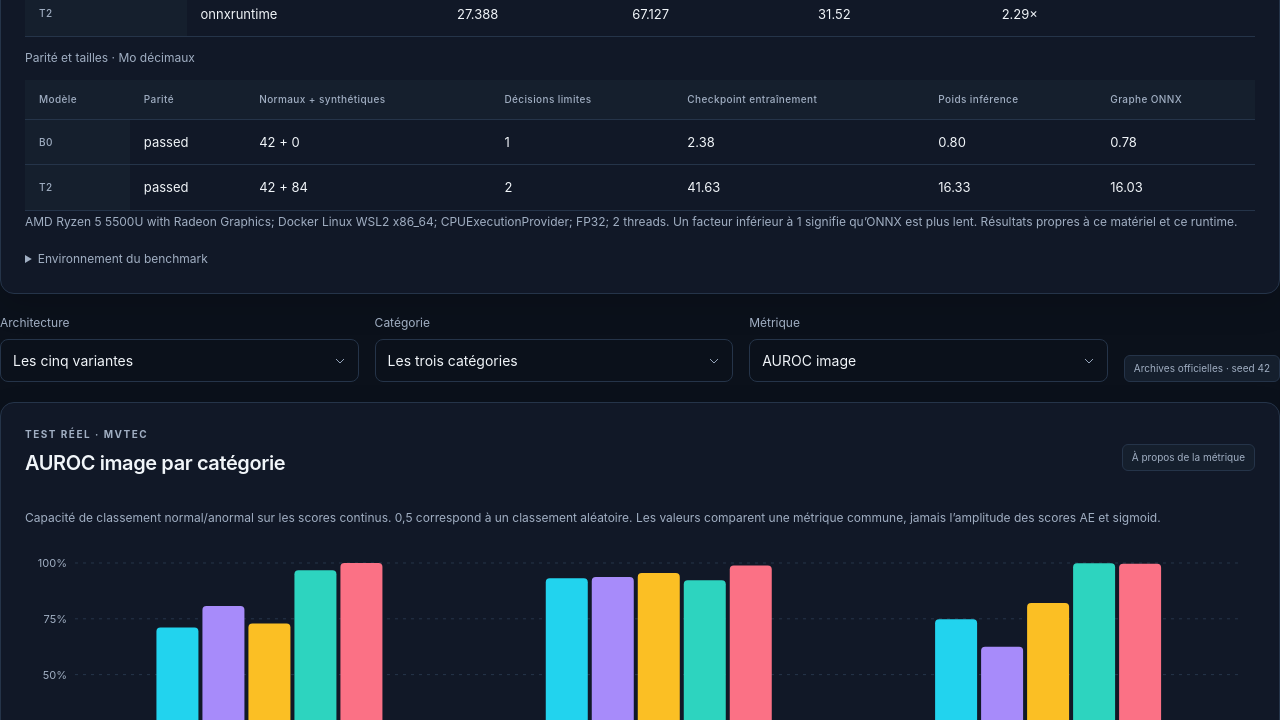
Test: official model analytics › filters architectures and categories without inventing pixel measures
(page scrolled)
Select "EfficientNet T0 / T1 / T2" in the dropdown named "Architecture analytique" at [179, 361], box [0,339,359,382]
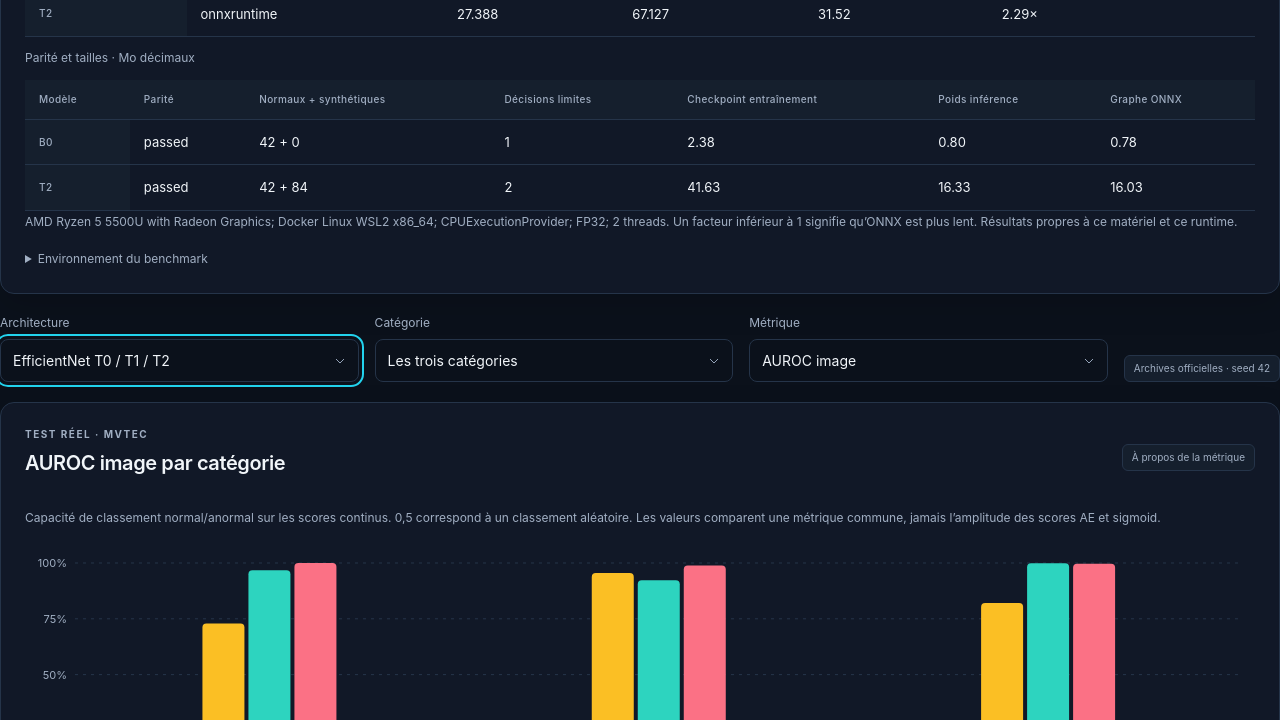
Select "Bouteille" in the dropdown named "Catégorie analytique" at [554, 361], box [375,339,733,382]
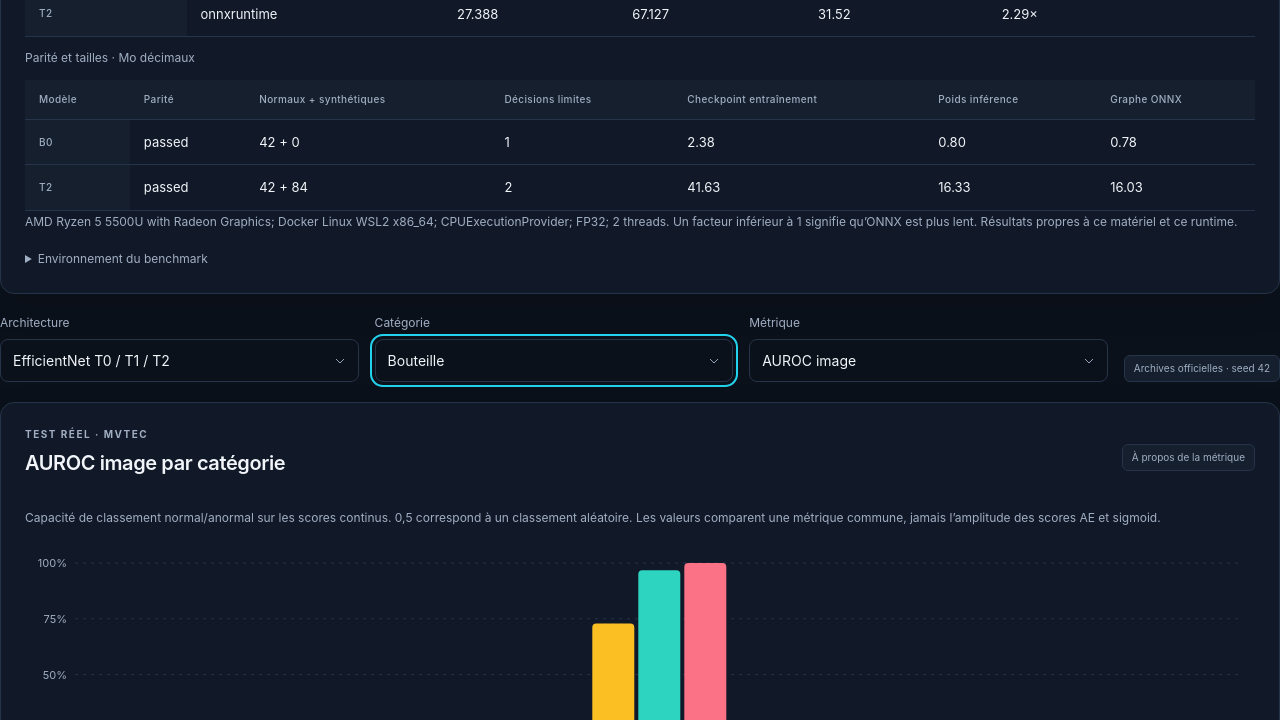
Select "Faux positifs" in the dropdown named "Métrique scientifique" at [928, 361], box [749,339,1108,382]
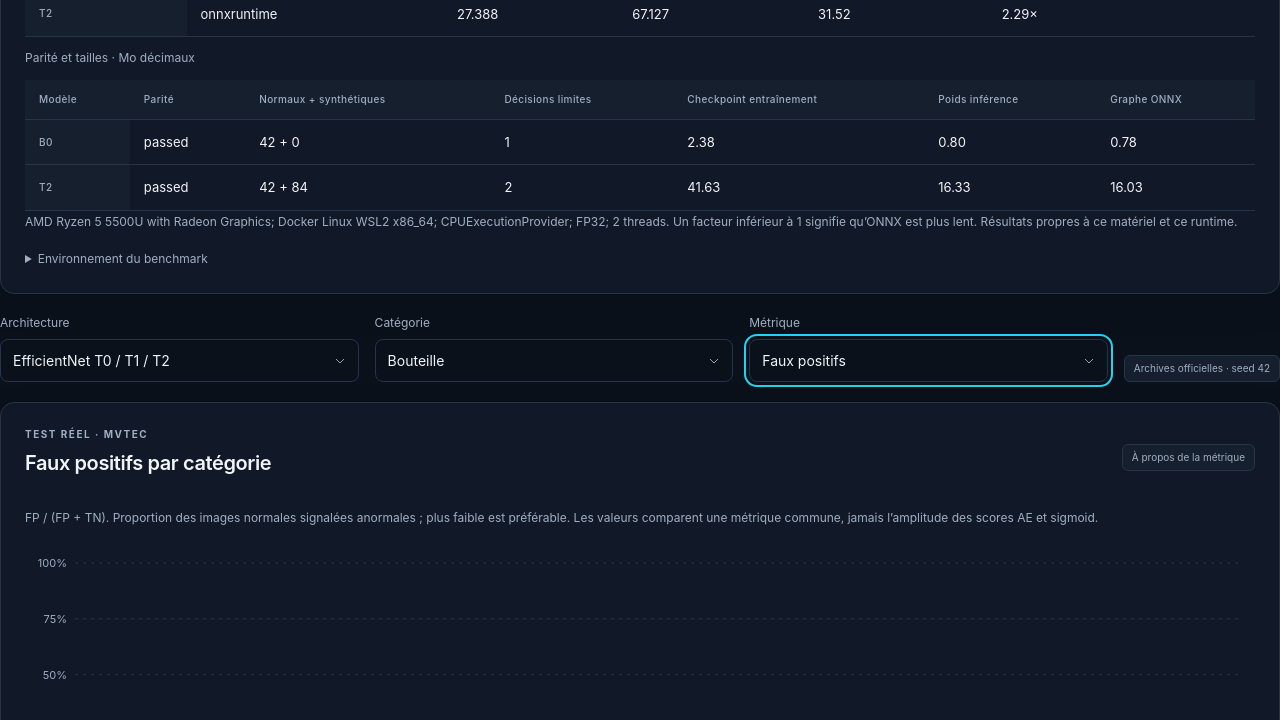
Now the heading "Faux positifs par catégorie" is shown, box [25,451,271,476]
